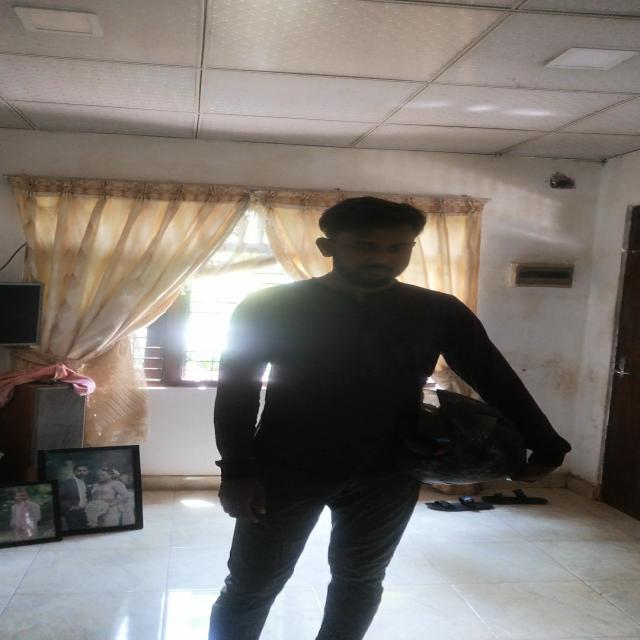Person: (213, 191, 523, 640)
